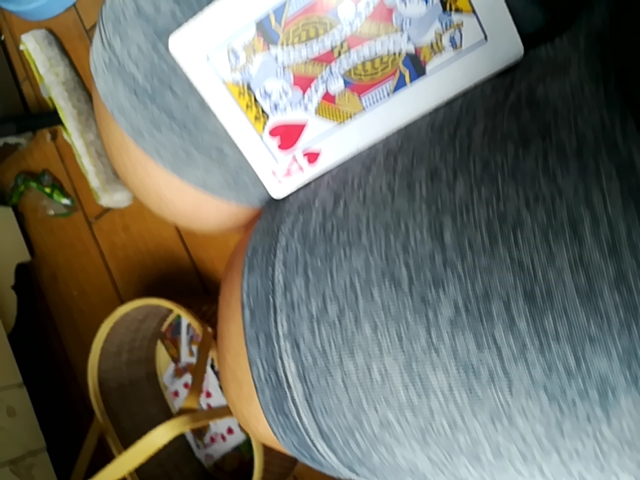hx k: (160, 1, 527, 201)
